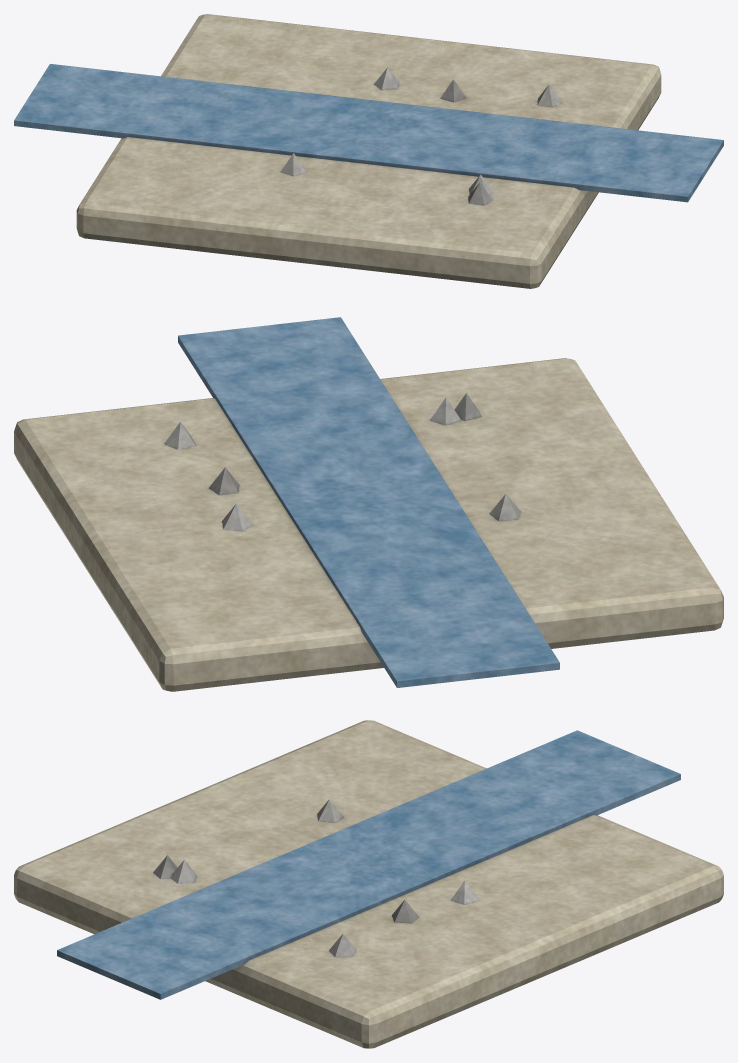
Rendered from river_c.glb.
3 renders of one model, top to bottom at view 1: azimuth 30°, elevation 25°; view 2: azimuth 150°, elevation 25°; view 3: azimuth 270°, elevation 25°, orthographic. The views are drawn at different scales.
Parts seen in each view (by area): view 1: dilek; view 2: dilek; view 3: dilek.
Part boxes in pixels (<box>): dilek: <box>14,14,723,288</box>; dilek: <box>14,317,723,691</box>; dilek: <box>14,720,723,1048</box>.
Bounding box in the file's own units: 2.42 × 0.21 × 2.42.
1 material, 1 textured.
